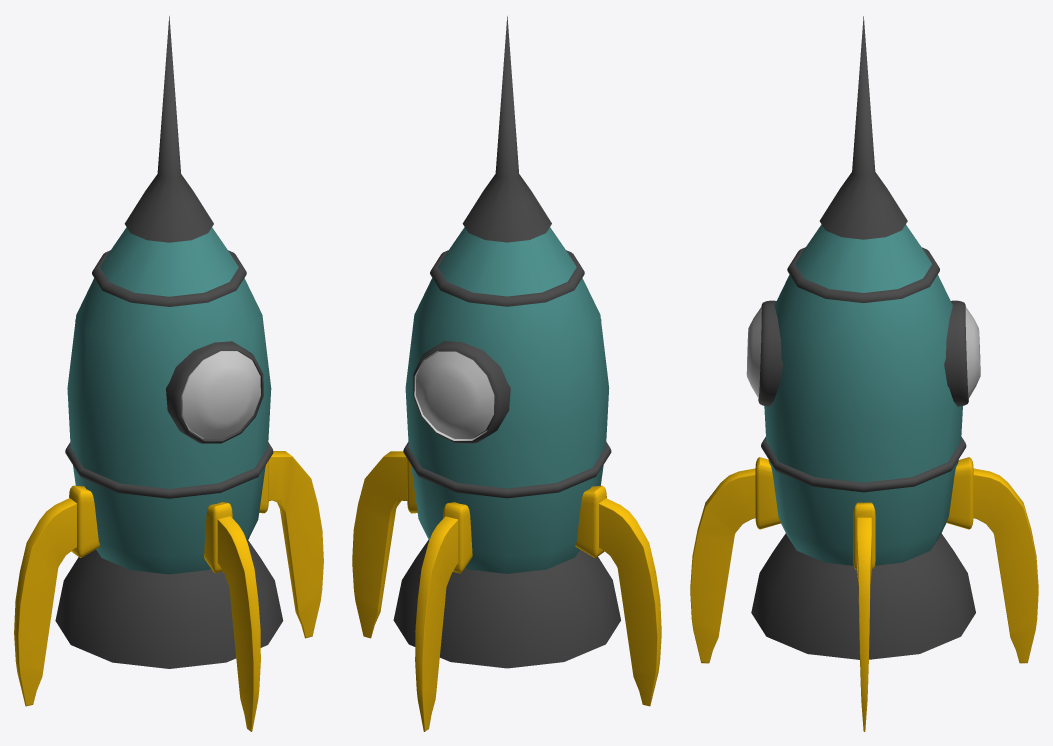
The model's file is Rocket_2.fbx.
3 renders of one model, left to right at view 1: azimuth 30°, elevation 25°; view 2: azimuth 150°, elevation 25°; view 3: azimuth 270°, elevation 25°, orthographic.
Visible parts, largest first — view 1: Rocket_2; view 2: Rocket_2; view 3: Rocket_2.
Boxes of the visible parts, bbox=[...] form: Rocket_2: bbox=[14, 16, 323, 731]; Rocket_2: bbox=[352, 16, 661, 731]; Rocket_2: bbox=[690, 16, 1038, 731].
Size of the model in its own units: 0.3624 by 0.7447 by 0.3624.
